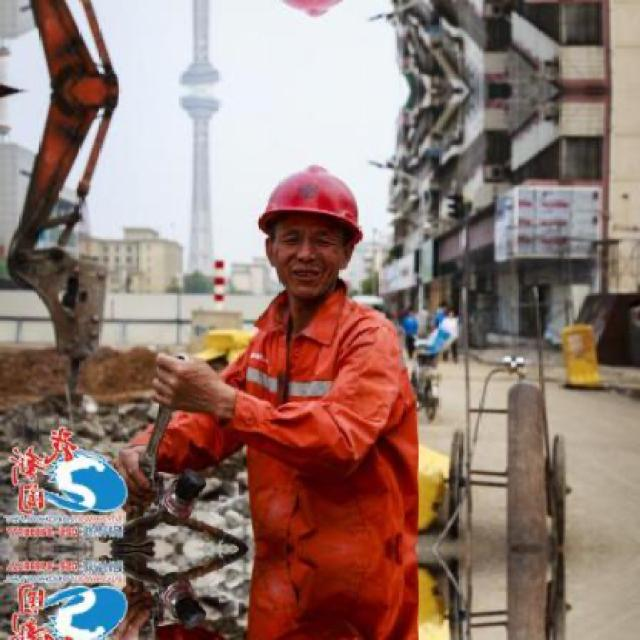con casco: (241, 146, 389, 338)
